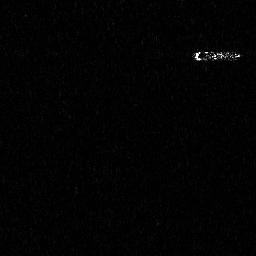ship: (191, 46, 242, 64)
